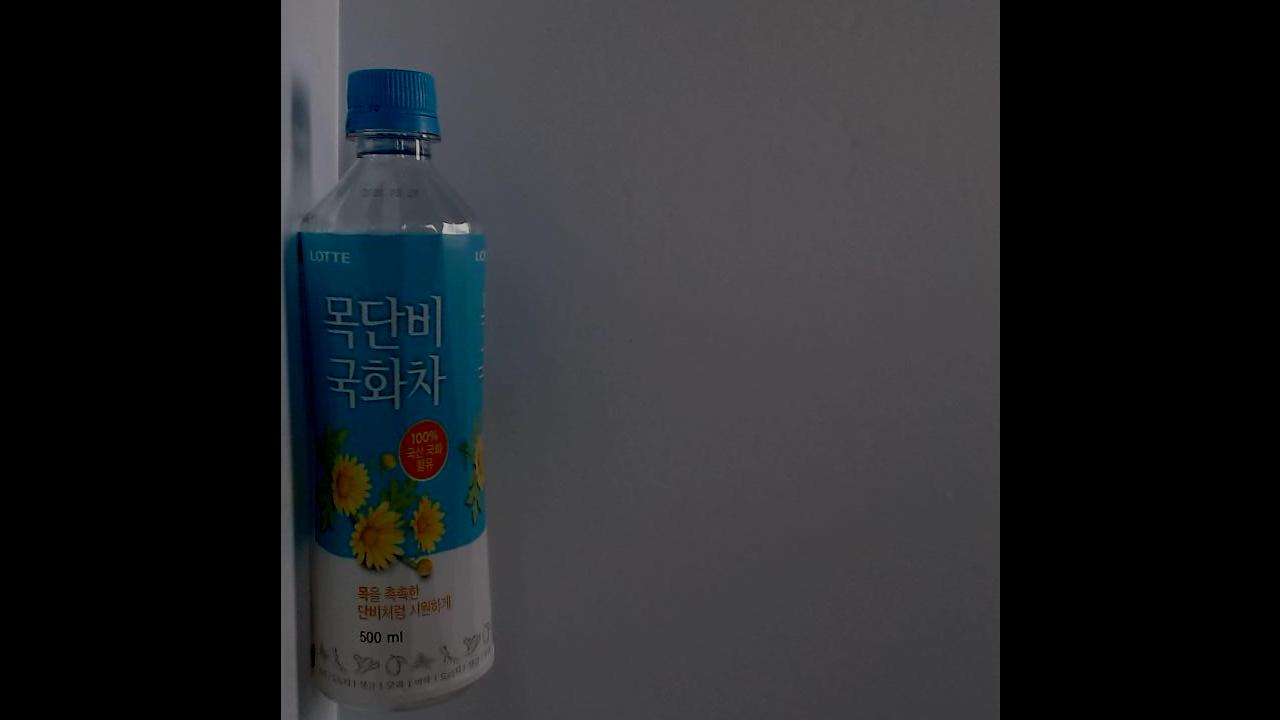bottle: (294, 56, 502, 720)
